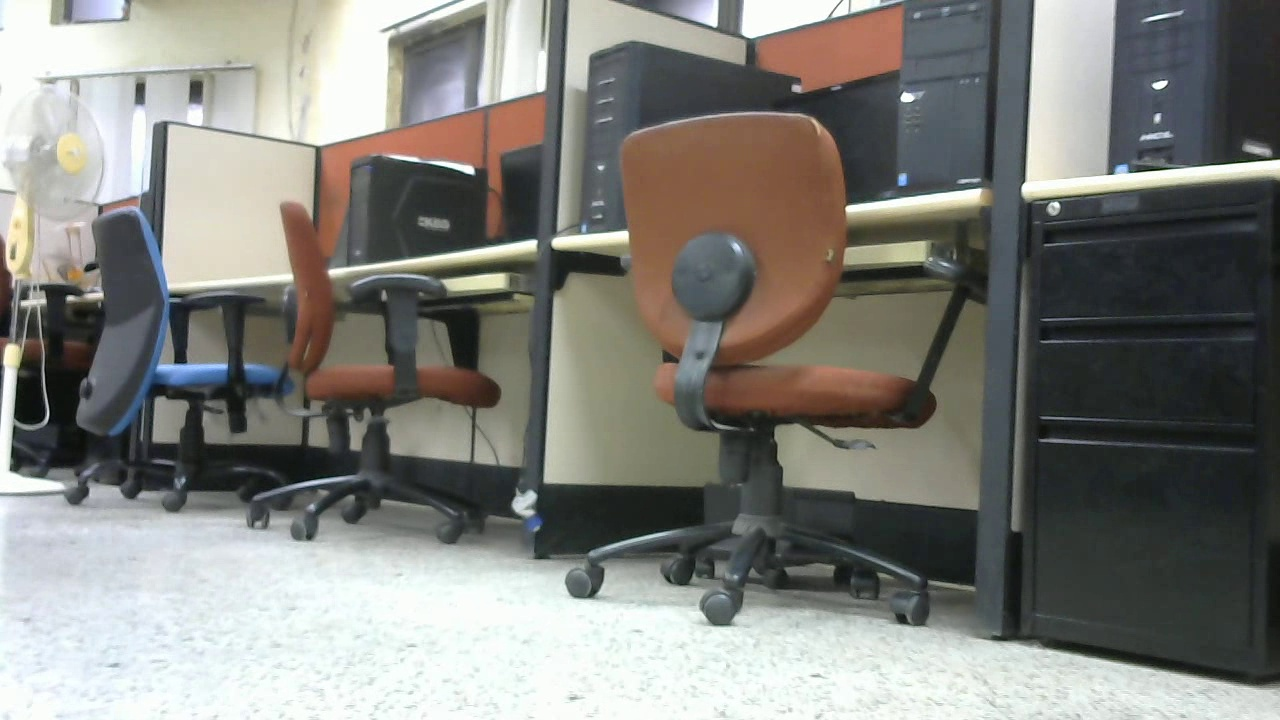chair: (565, 111, 978, 630), (243, 202, 500, 546), (63, 203, 295, 510), (1, 237, 94, 480)
